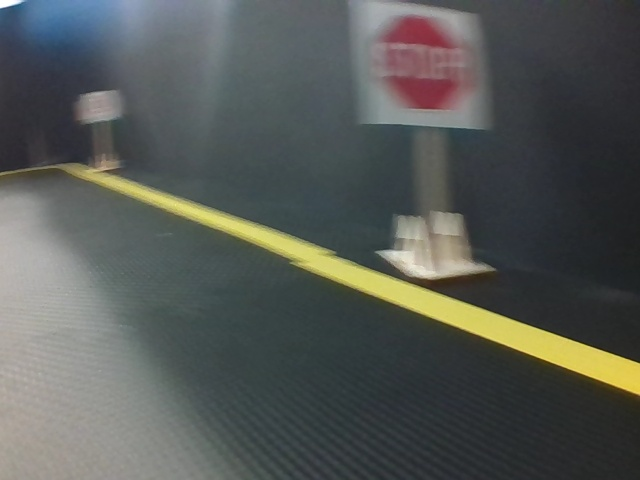30: (79, 91, 114, 120)
stop: (359, 5, 478, 130)
